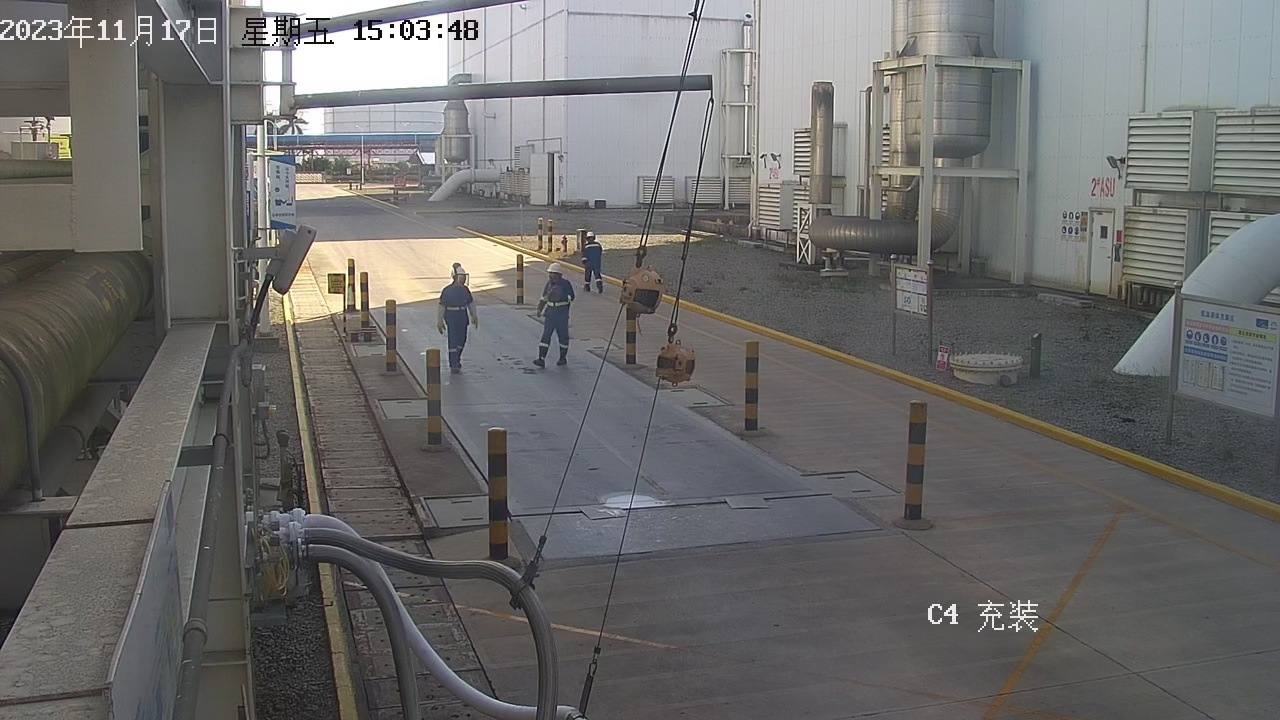Head_with_Helmet: (438, 256, 484, 290), (536, 261, 577, 290), (574, 223, 610, 247)
Uniform: (525, 279, 587, 377), (426, 280, 492, 367), (570, 239, 615, 299)
